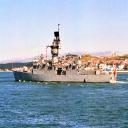Fragata: (13, 23, 119, 86)
